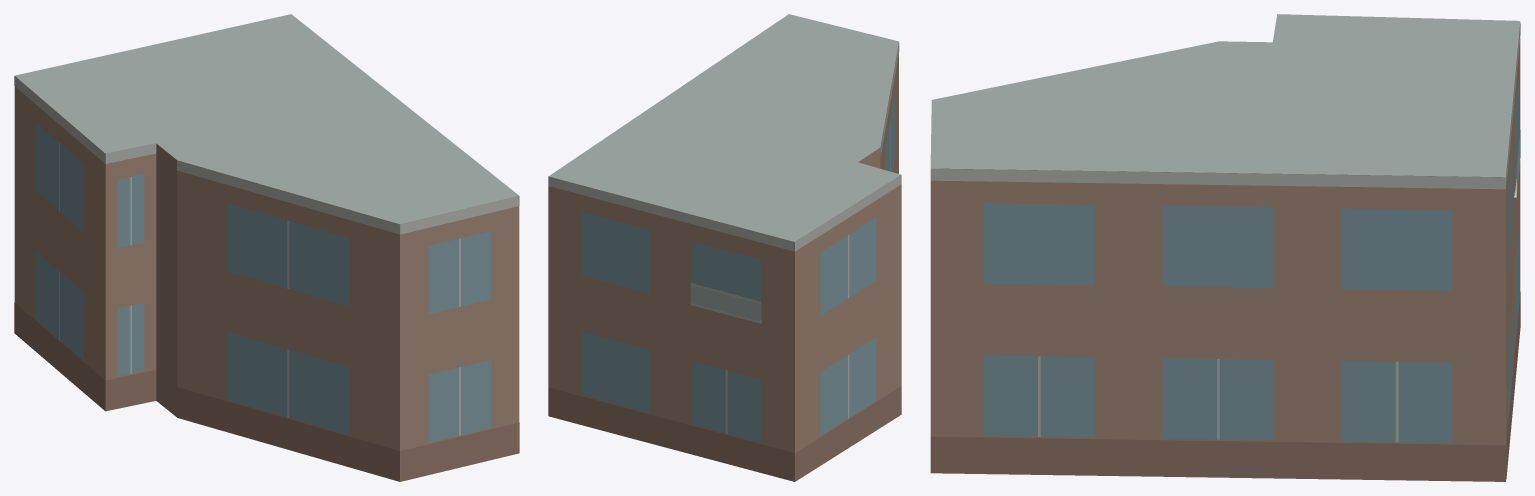
File: survey-upis-32636920.glb
3 views of the same model, side by side, from view 1: azimuth 30°, elevation 25°; view 2: azimuth 150°, elevation 25°; view 3: azimuth 270°, elevation 25° (orthographic). The views are drawn at different scales.
Parts seen in each view (by area): view 1: survey-upis-32636920.tmp; view 2: survey-upis-32636920.tmp; view 3: survey-upis-32636920.tmp.
Part boxes in pixels (x1=…): survey-upis-32636920.tmp: x1=14, y1=14, x2=519, y2=481; survey-upis-32636920.tmp: x1=548, y1=14, x2=901, y2=481; survey-upis-32636920.tmp: x1=930, y1=14, x2=1520, y2=481.
Bounding box in the file's own units: 7.01 × 6.1 × 10.72.
